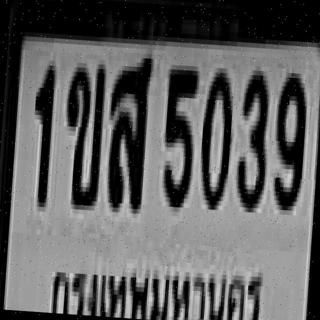A02: (58, 58, 105, 206)
A40: (102, 51, 152, 209)
N00: (196, 62, 234, 206)
N01: (27, 60, 54, 202)
N03: (232, 65, 270, 208)
N05: (159, 62, 197, 206)
N09: (270, 67, 308, 206)
P04: (45, 258, 266, 320)
